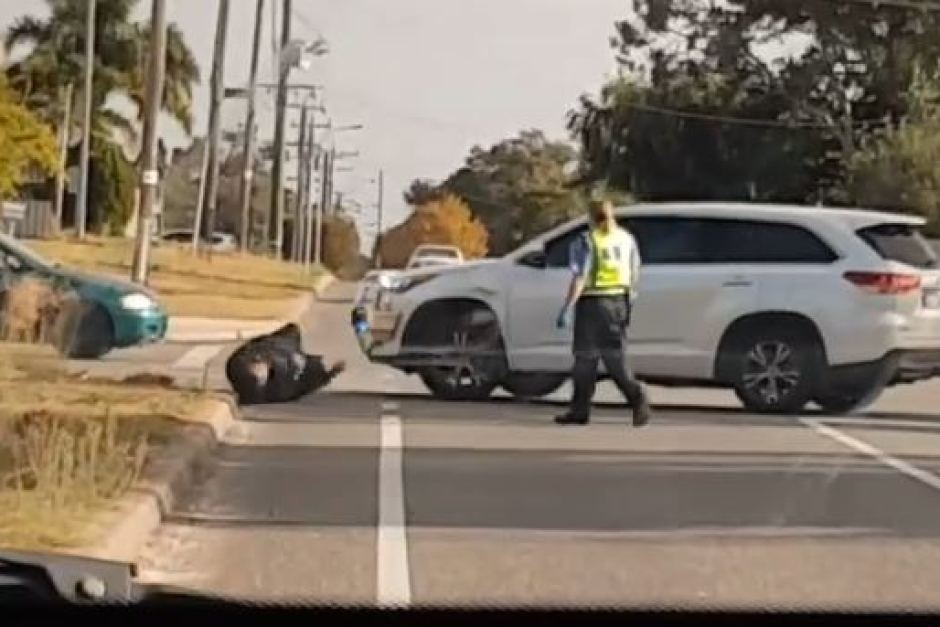falling: (214, 307, 351, 410)
